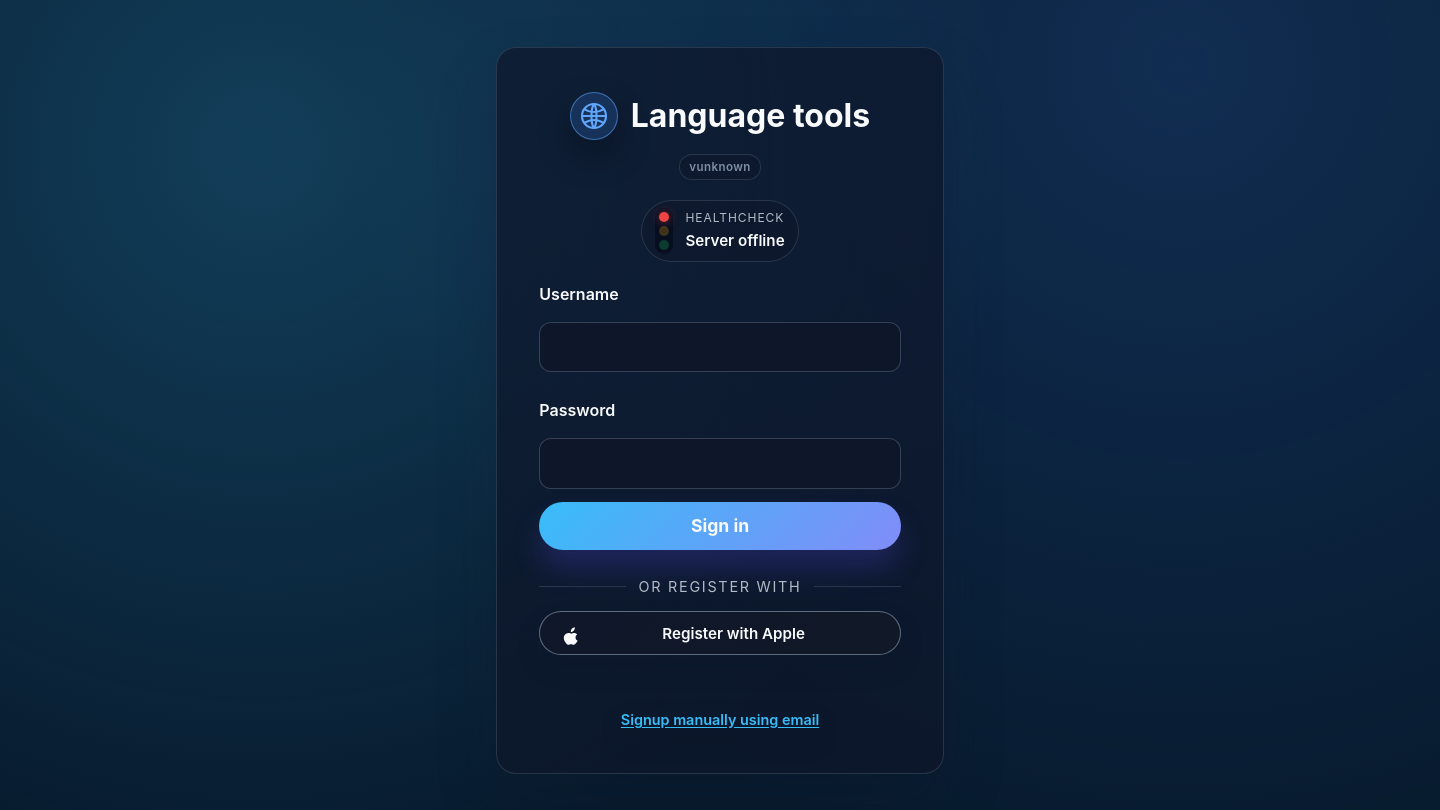
authentication flows › hides admin controls for viewers
Type "sarah" into the field labelled "Username" at [720, 347], box left=539, top=322, right=901, bottom=372
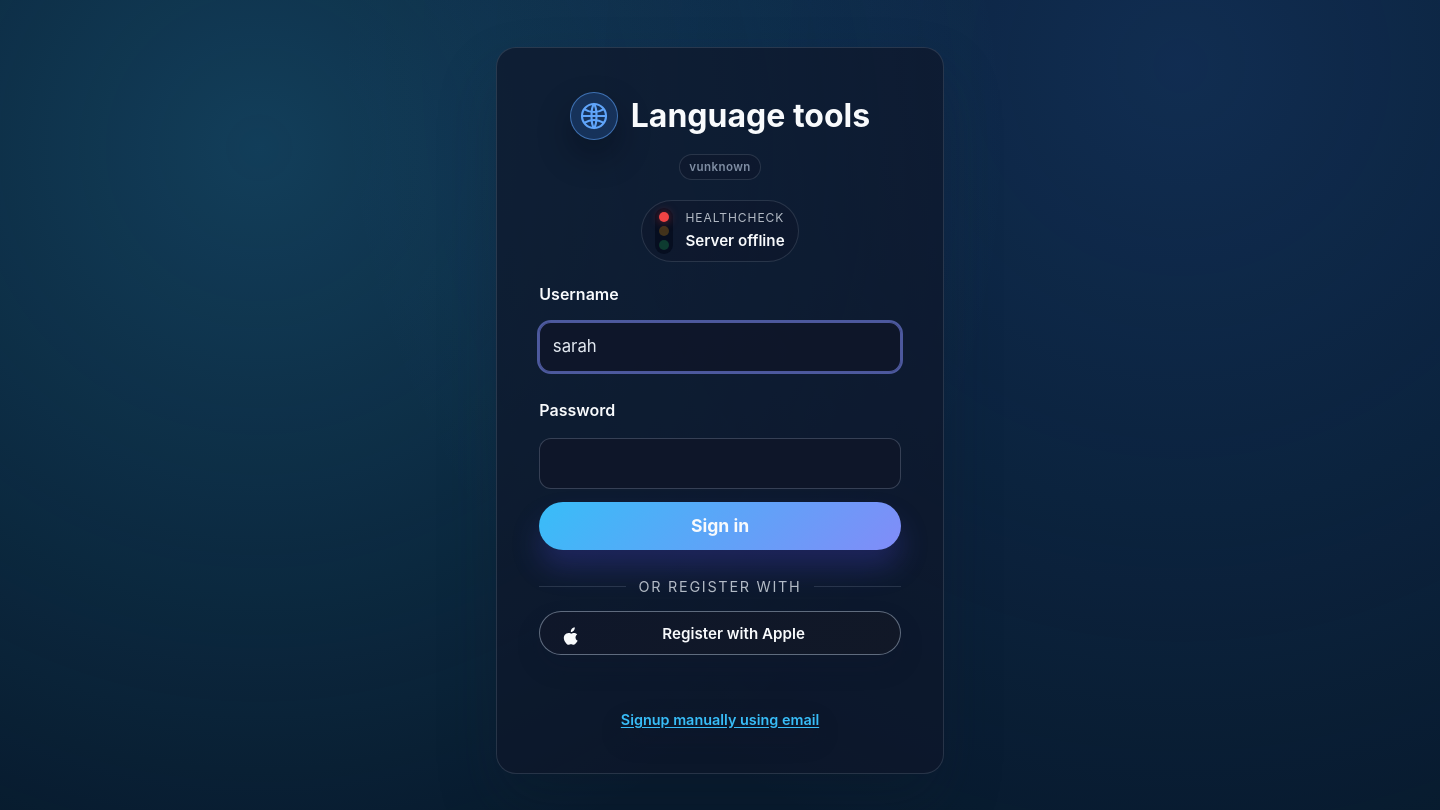
Type "secret" into the password field labelled "Password" at [720, 464], box left=539, top=438, right=901, bottom=489
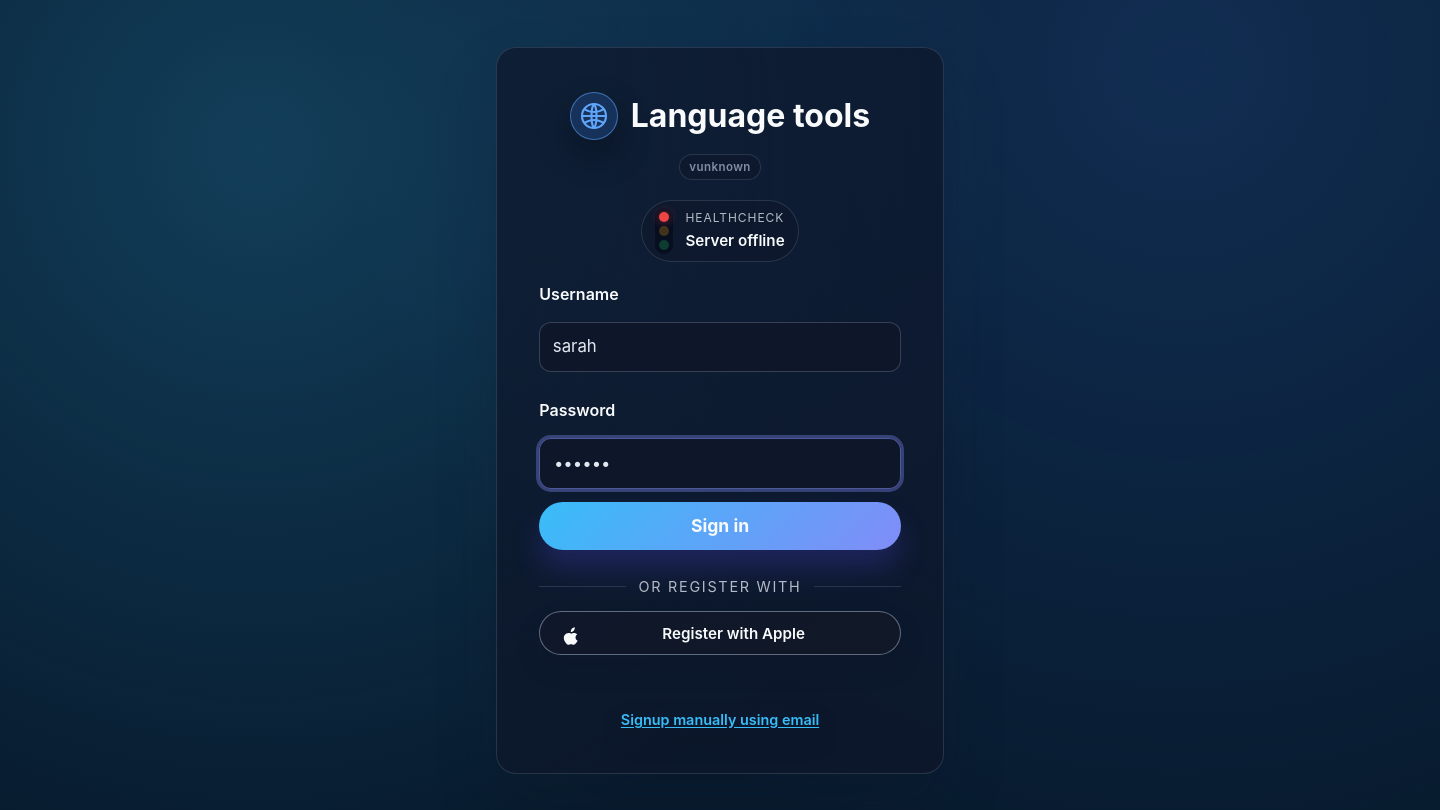
Click the button "Sign in" at [720, 526], box left=539, top=502, right=901, bottom=550
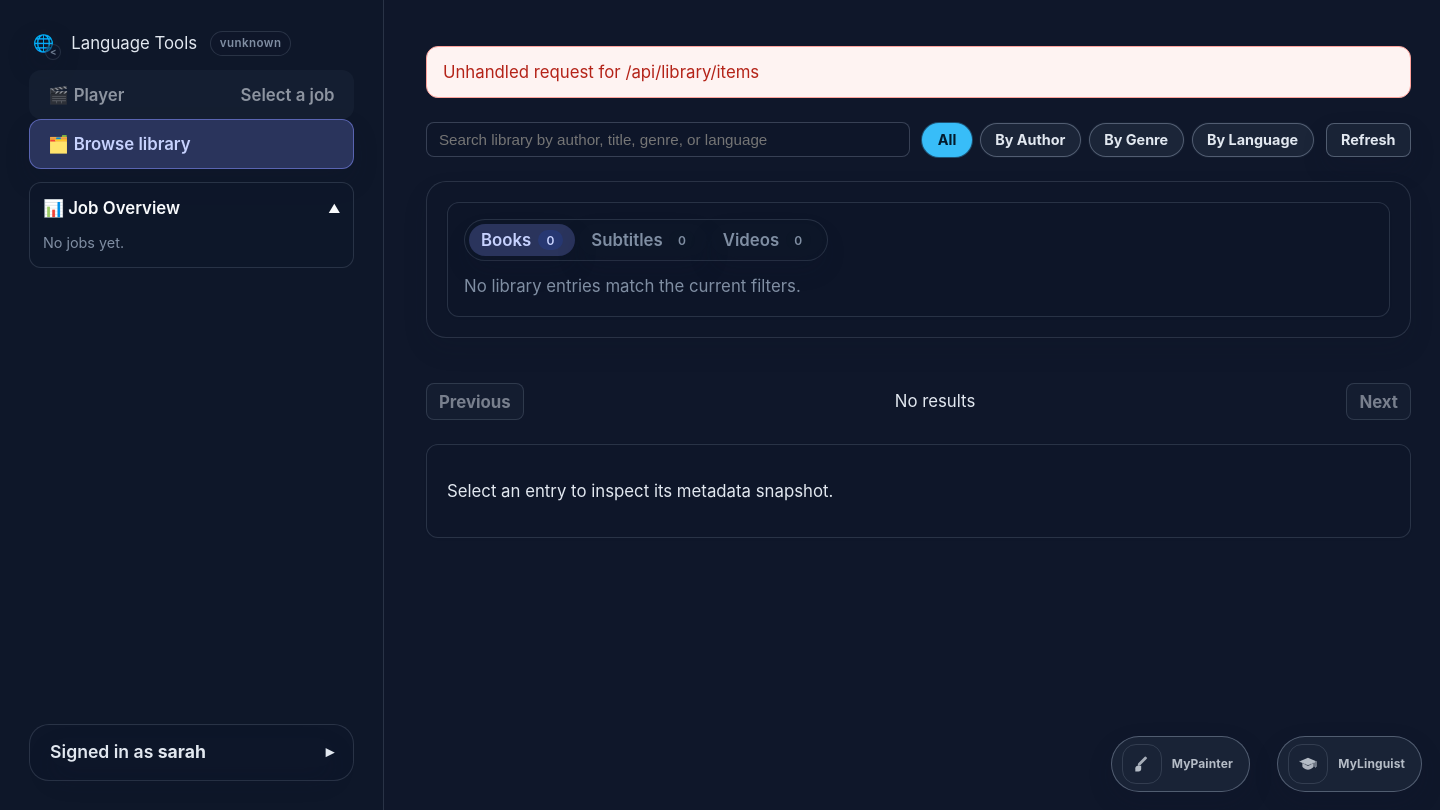
Check: the text "Signed in as sarah" is shown, box left=50, top=738, right=206, bottom=766
